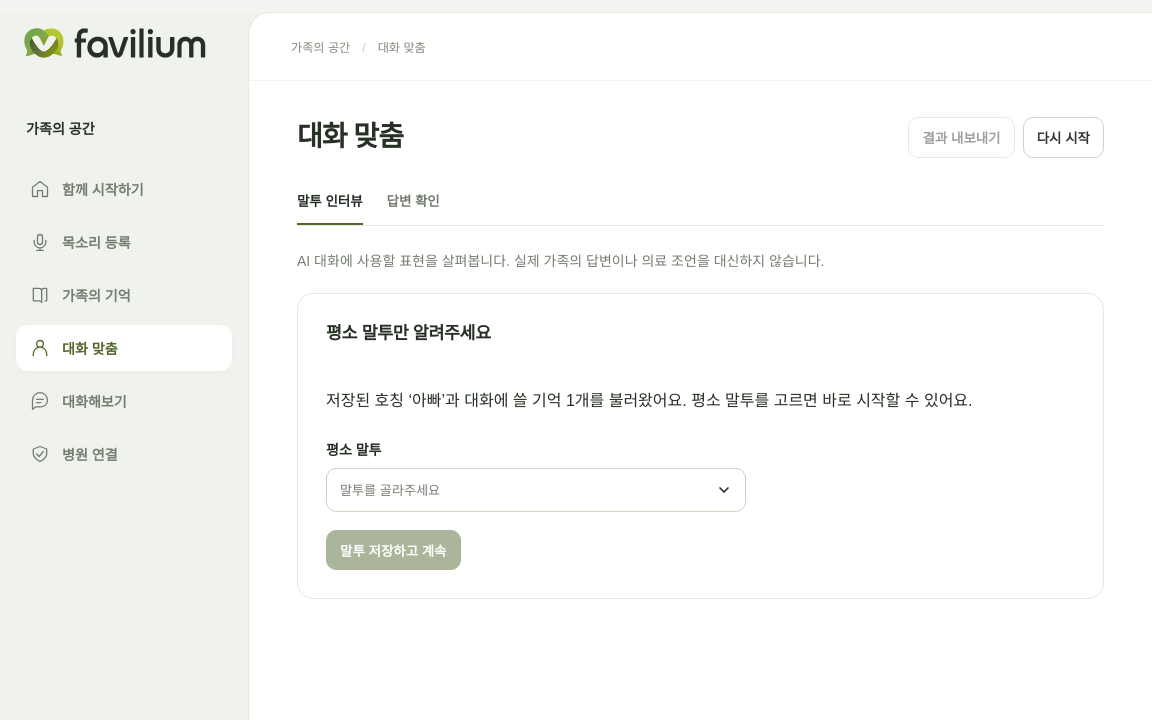
Scenario: 대화 맞춤 › 기억과 호칭이 있으면 말투만 이 화면에서 저장하고 나머지 자료를 보존한다
Expected: the heading "평소 말투만 알려주세요" is shown, [326,322,491,346]
Expected: the text "저장된 호칭 ‘아빠’과 대화에 쓸 기억 1개를 불러왔어요. 평소 말투를 고르면 바로 시작할 수 있어요." is shown, [326,388,1075,415]
Click the dropdown named "평소 말투": click(390, 491) [326,468,746,512]
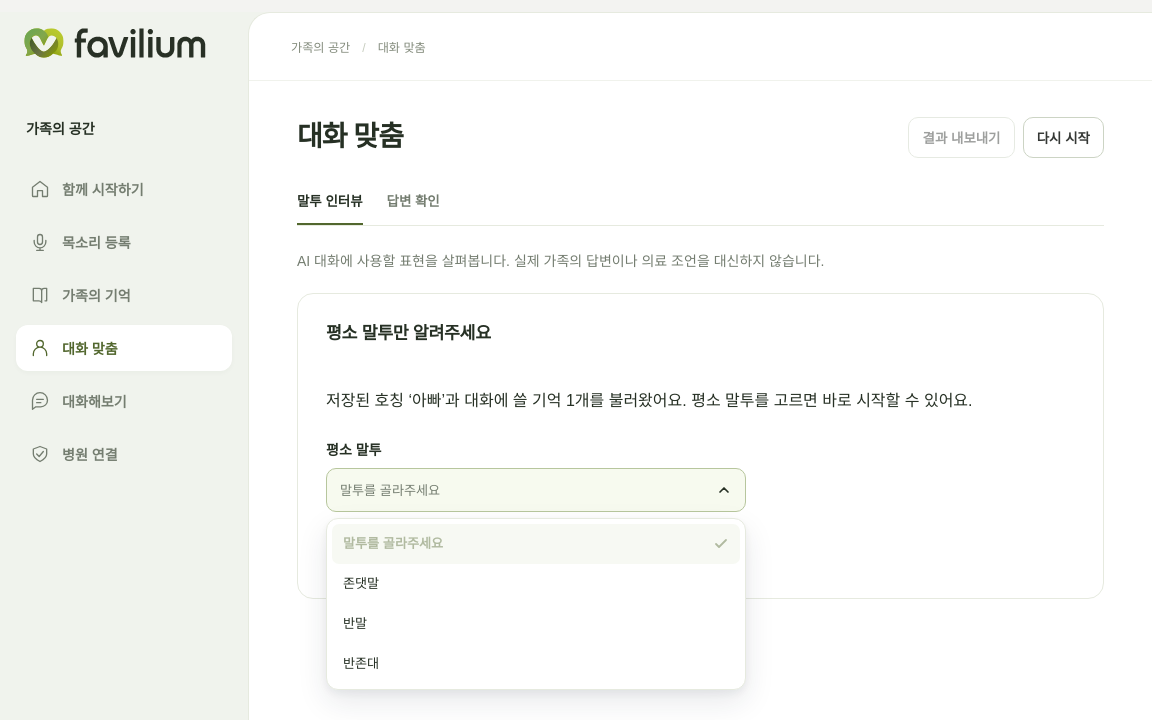
Click the option "반존대": click(361, 663) [343,656,379,671]
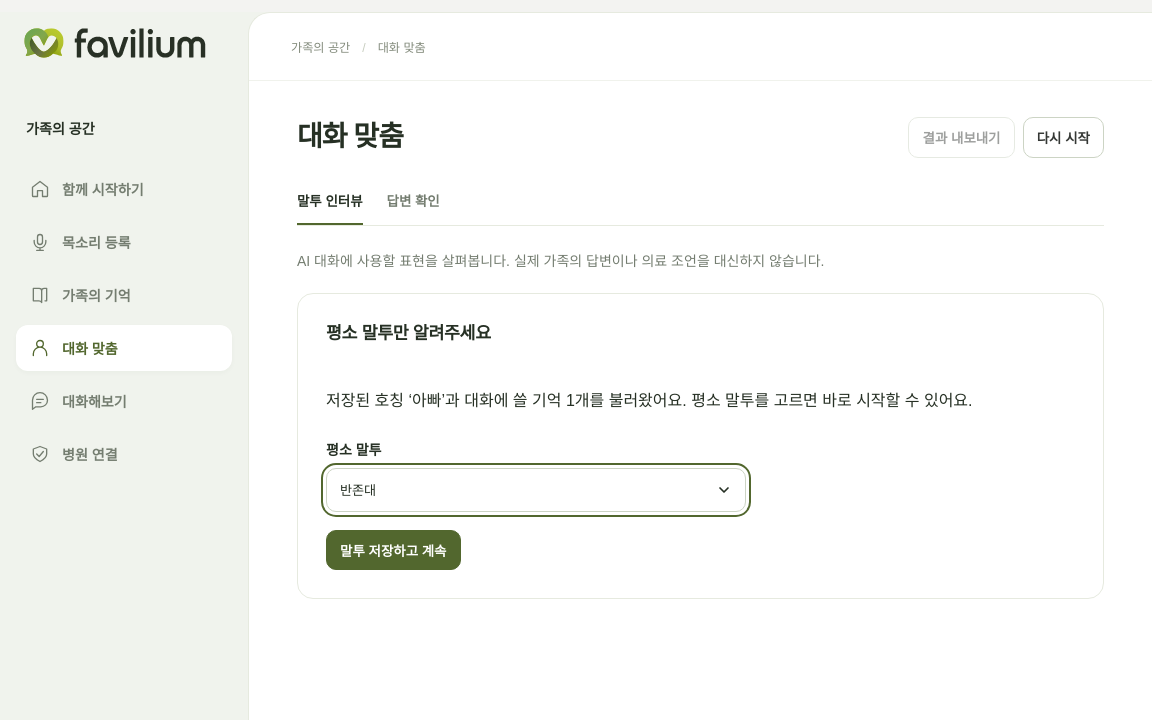
Click the button "말투 저장하고 계속": click(393, 550) [326,530,461,570]
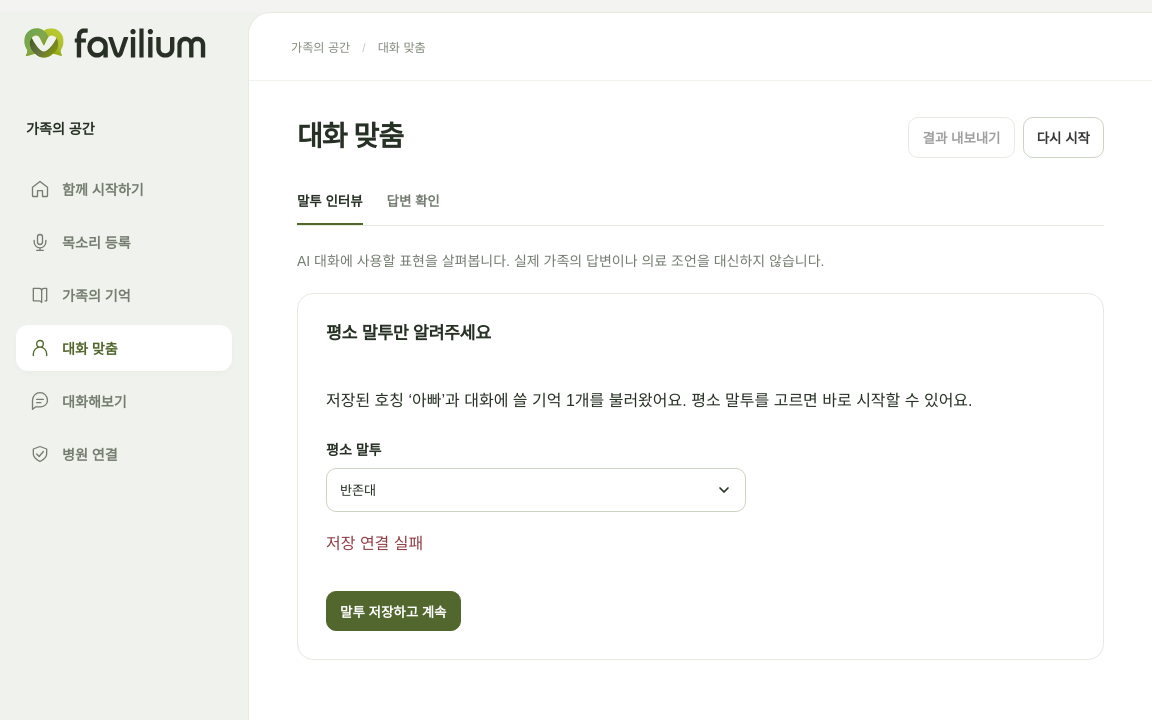
Expected: the button "질문 시작" is not shown
Expected: the message reads "저장 연결 실패", [326,535,423,552]
Click the button "말투 저장하고 계속": click(393, 611) [326,591,461,631]
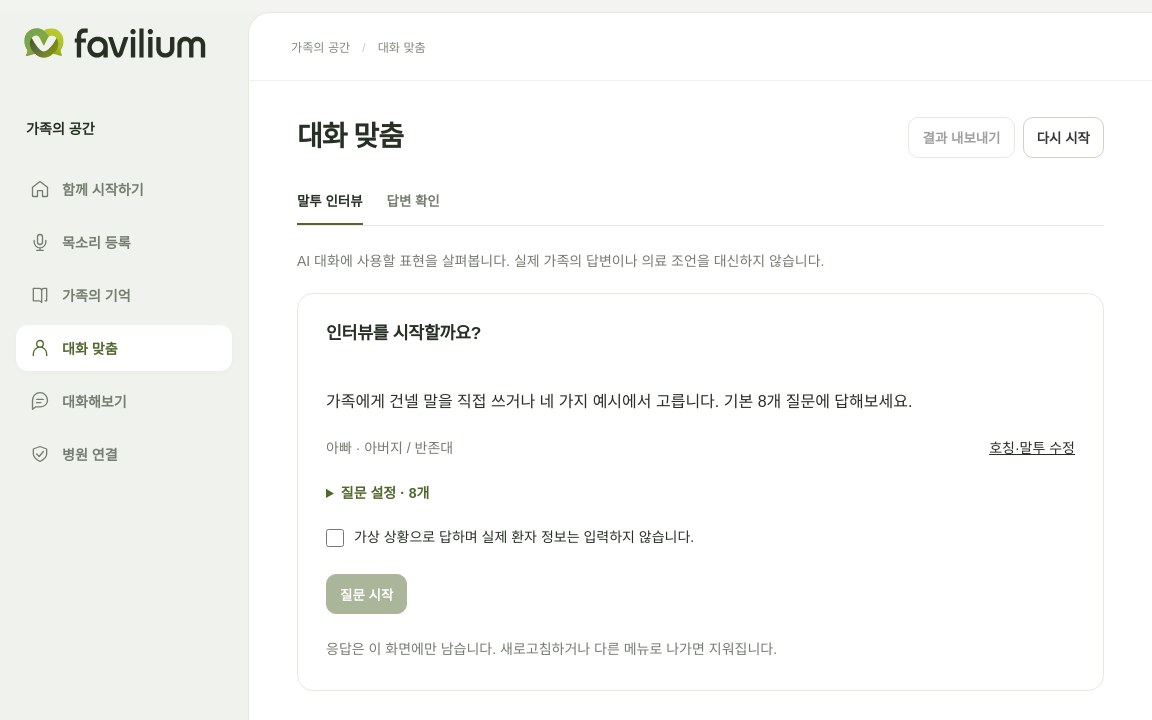
Expected: the button "질문 시작" is shown, [326,574,407,614]
